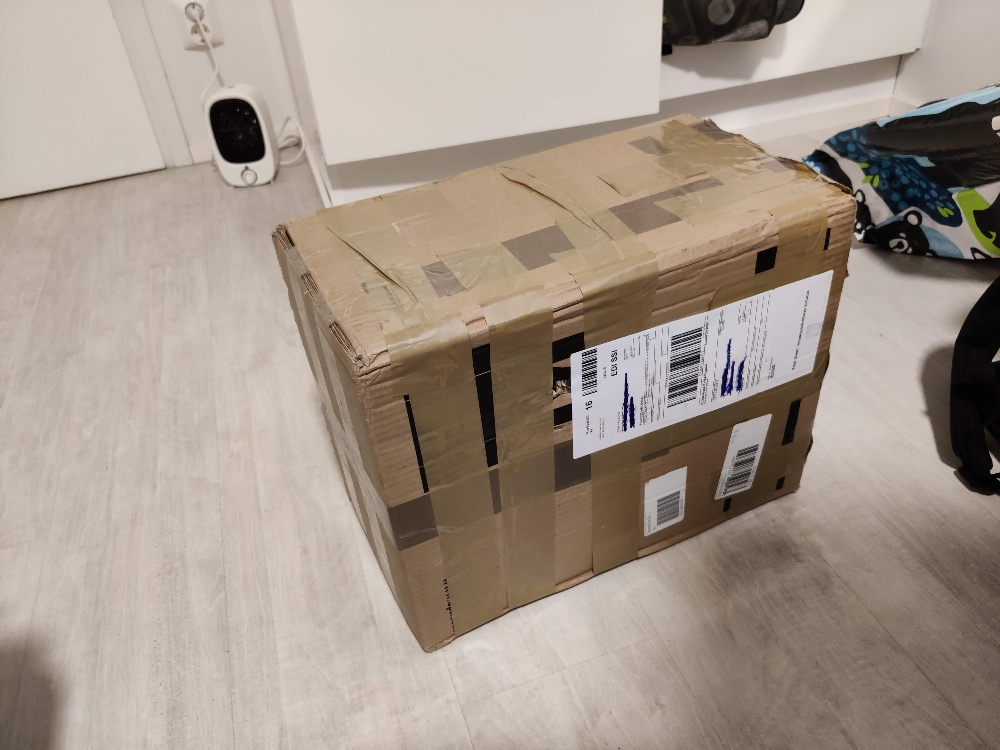good-parcel: (244, 114, 864, 653)
